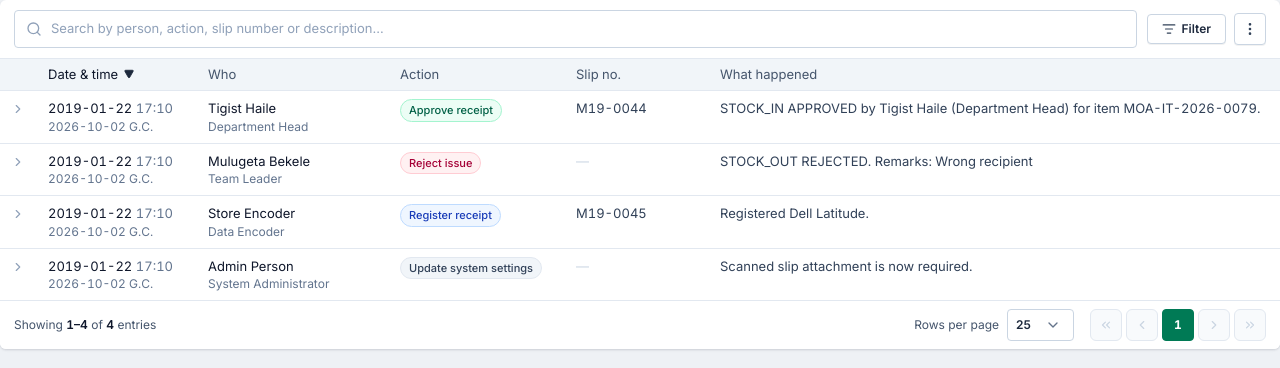
Test: Audit log › searches by person, slip number or description, and says when nothing matches
Type "mulugeta" into the field named "Search the audit log" at (575, 29), box 14,10 -> 1136,48
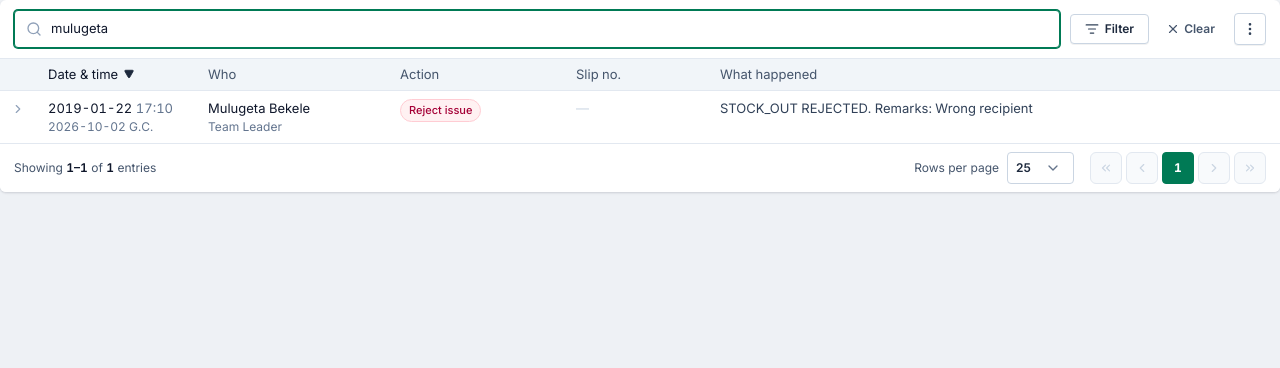
Clear the field named "Search the audit log" at (537, 29), box 14,10 -> 1060,48
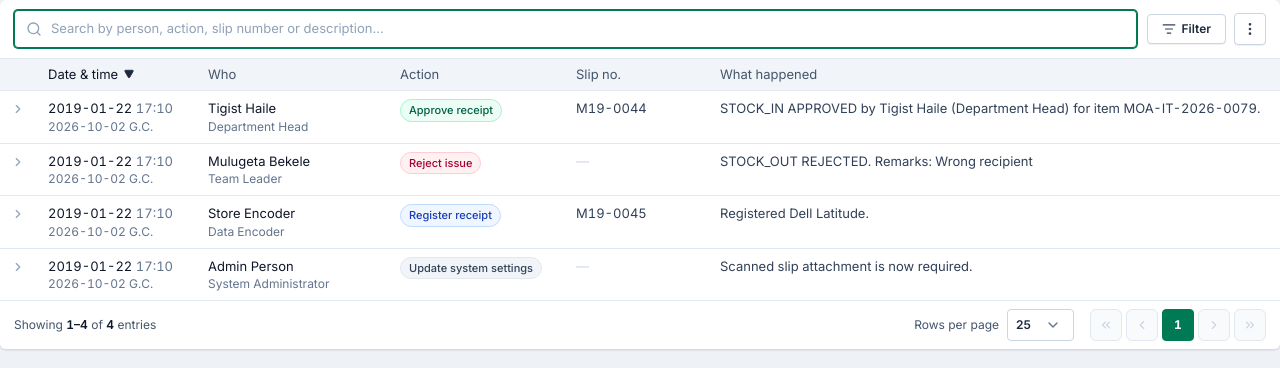
Type "M19-0045" into the field named "Search the audit log" at (575, 29), box 14,10 -> 1136,48
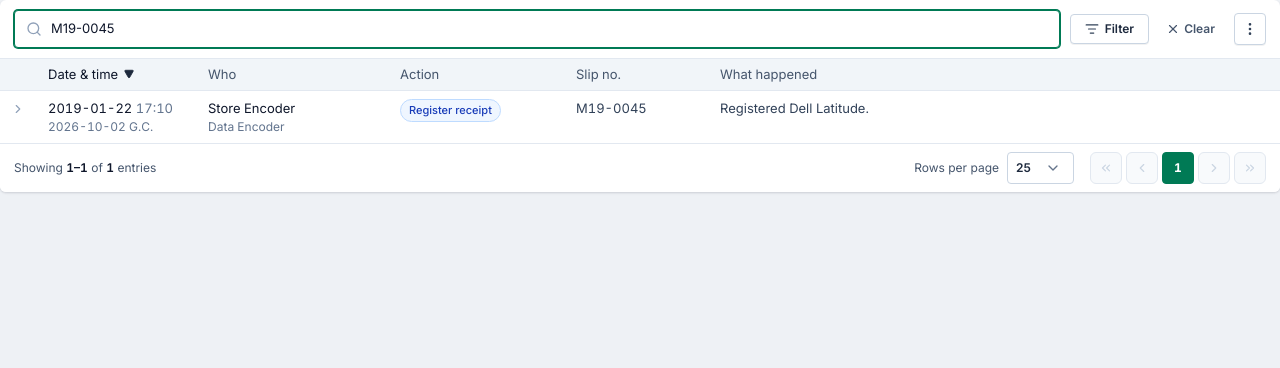
Expected: the row that starts with "G.C." shows "Store Encoder", 208,100 -> 295,116
Clear the field named "Search the audit log" at (537, 29), box 14,10 -> 1060,48
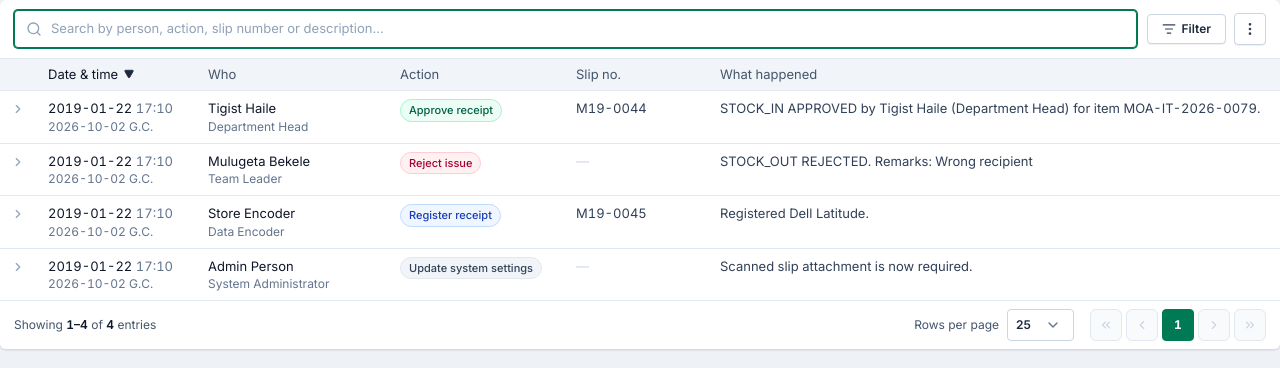
Type "zzzz" into the field named "Search the audit log" at (575, 29), box 14,10 -> 1136,48
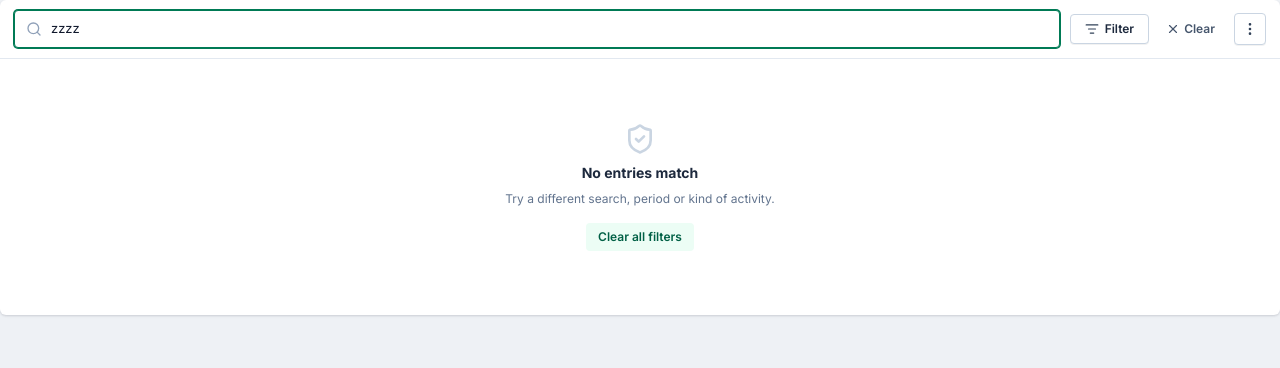
Expected: the text "No entries match" is shown, 582,164 -> 698,180
